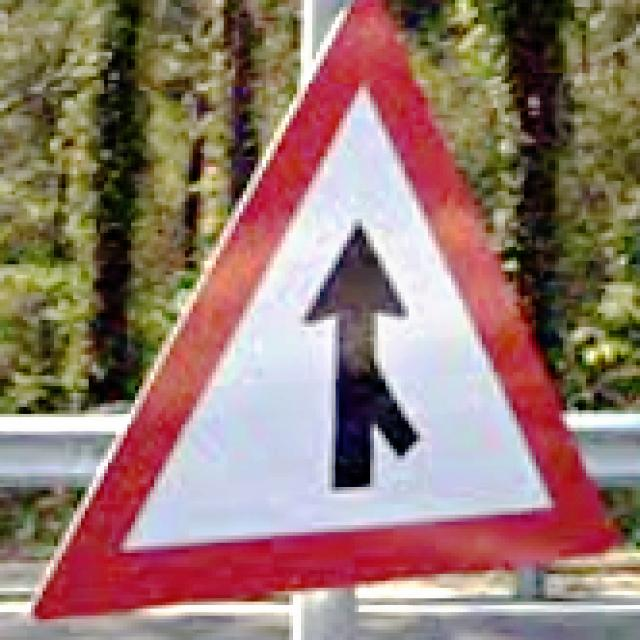rightmerge: (26, 0, 621, 624)
